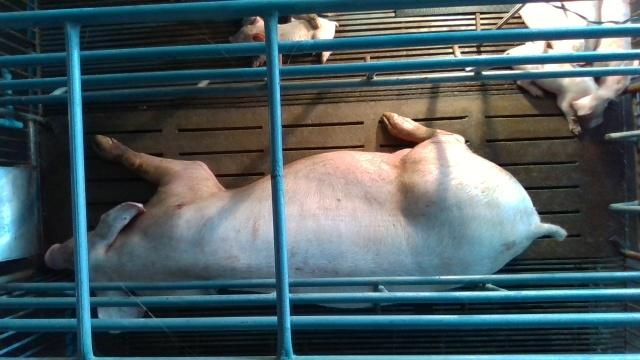piglet: (506, 44, 617, 134), (228, 16, 338, 67), (594, 0, 640, 97), (518, 2, 586, 66)
sow-sit: (44, 113, 569, 333)
